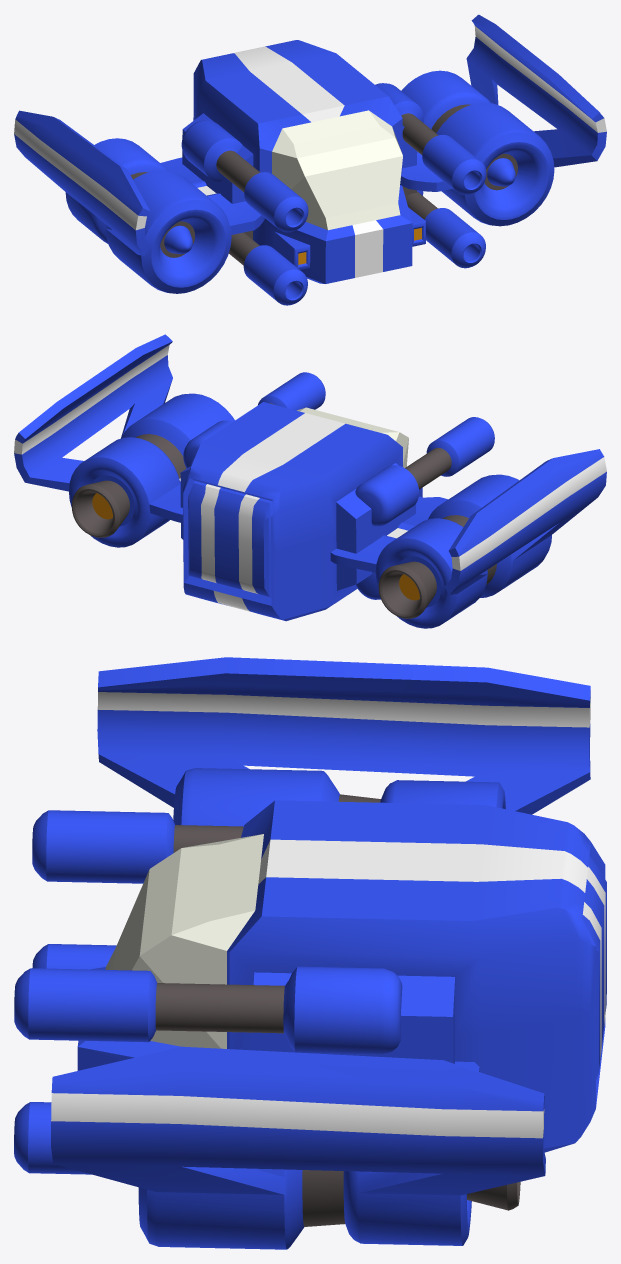
The model's file is cartoon_spaceship_blue.fbx.
3 views of the same model, one above another, from view 1: azimuth 30°, elevation 25°; view 2: azimuth 150°, elevation 25°; view 3: azimuth 270°, elevation 25° (orthographic). The views are drawn at different scales.
Visible parts, largest first — view 1: Cube.003; view 2: Cube.003; view 3: Cube.003.
Boxes of the visible parts, left/top/right/bottom form: Cube.003: left=14, top=14, right=606, bottom=305; Cube.003: left=14, top=334, right=606, bottom=628; Cube.003: left=14, top=657, right=606, bottom=1249.
Size of the model in its own units: 209 by 61.17 by 124.
